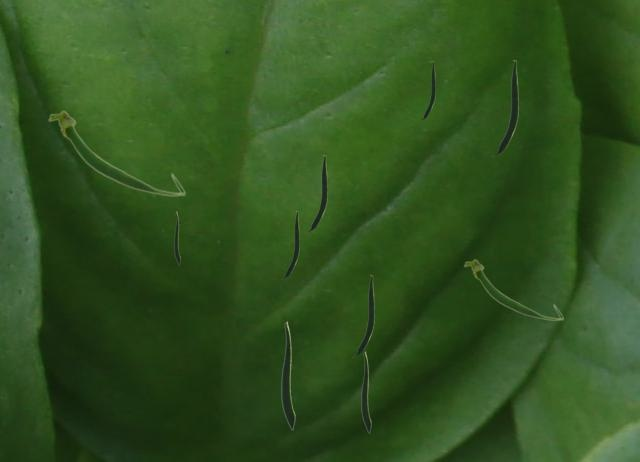french_bean: (47, 110, 185, 196), (463, 258, 563, 320), (493, 60, 517, 155), (353, 275, 373, 356), (307, 155, 326, 231), (281, 321, 294, 429), (282, 211, 298, 278), (421, 61, 434, 119), (361, 351, 370, 432), (174, 211, 179, 264)
